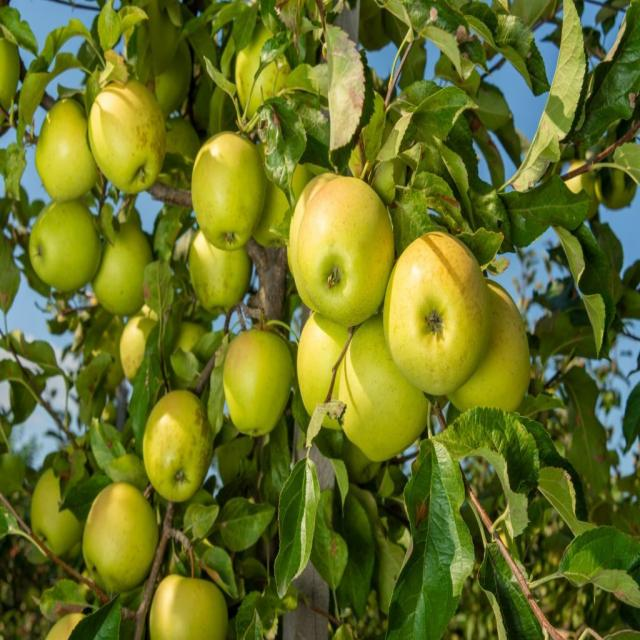Green Apple: (346, 313, 436, 466), (390, 236, 490, 373), (442, 292, 533, 415), (308, 184, 393, 311), (90, 79, 166, 198), (194, 129, 262, 248), (144, 386, 212, 503), (304, 311, 372, 417), (88, 483, 160, 579), (224, 328, 287, 437), (31, 197, 98, 290), (234, 29, 300, 116), (149, 573, 231, 640), (184, 225, 251, 306), (41, 102, 98, 195), (90, 224, 157, 301), (254, 156, 308, 247), (33, 470, 81, 552), (120, 306, 171, 377), (169, 314, 213, 379), (49, 614, 95, 640)
